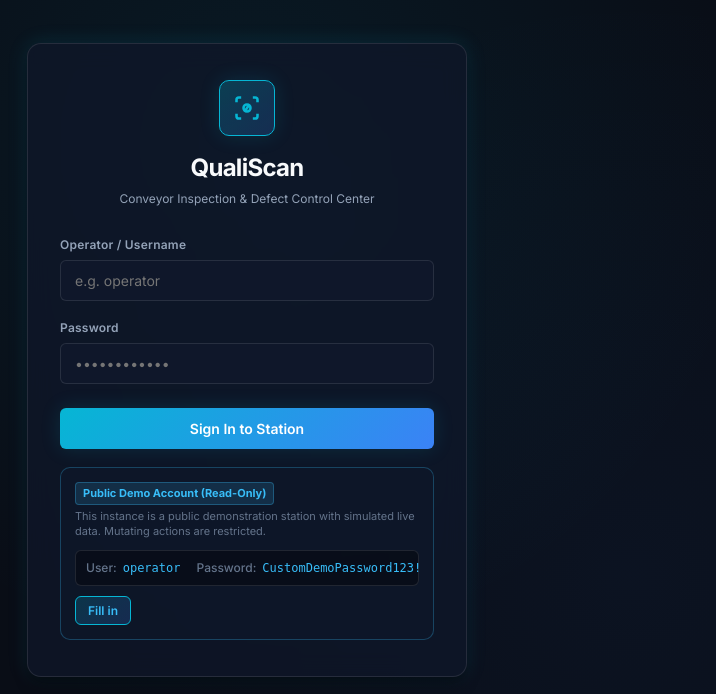
Test: Demo Mode & Cold-Start Suite › LoginPage Demo Account Box › shows read-only demo card and fills operator credentials when clicked
Expected: the element with test id "demo-account-card" is shown, top-left (60, 467), bottom-right (434, 640)
Expected: the text "Public Demo Account (Read-Only)" is shown, top-left (75, 482), bottom-right (274, 505)
Step 1. Click the button with test id "demo-fill-button" → (103, 610), box top-left (75, 596), bottom-right (131, 625)
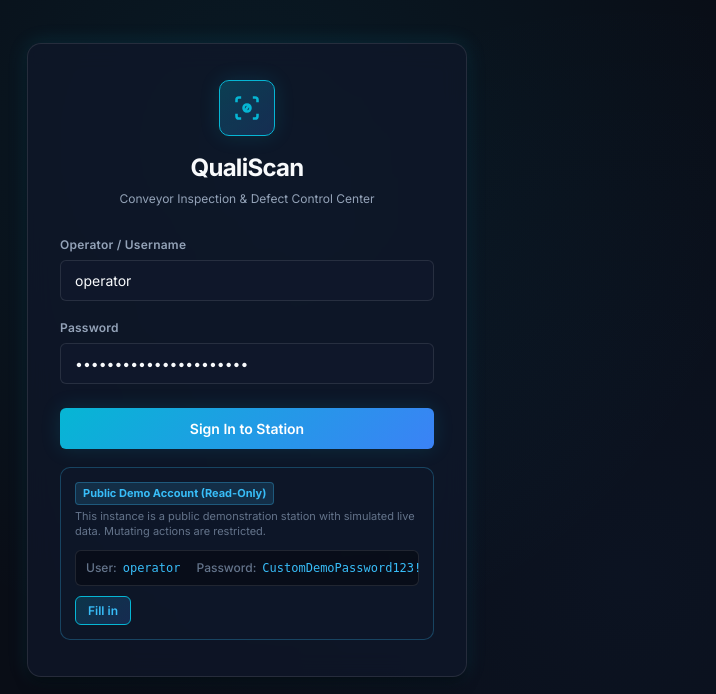
Result: the field labelled "Operator / Username" holds "operator" at top-left (60, 260), bottom-right (434, 301)
Result: the password field labelled "Password" holds "CustomDemoPassword123!" at top-left (60, 343), bottom-right (434, 384)
